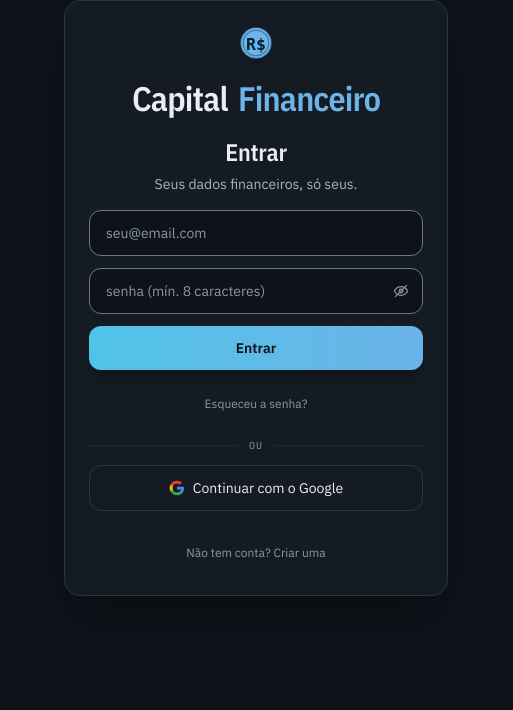
Test case: Auth — confirmação de e-mail no cadastro › e-mail que não sai não desfaz o cadastro nem impede a entrada
Click the button "Não tem conta? Criar uma": (256, 553) [89,531,423,575]
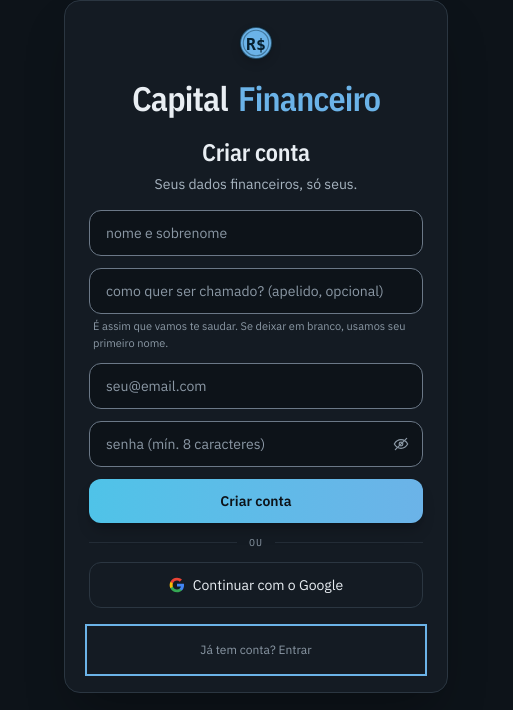
In the field named "Nome completo": (256, 233) [89,210,423,256], type "Ana Souza"
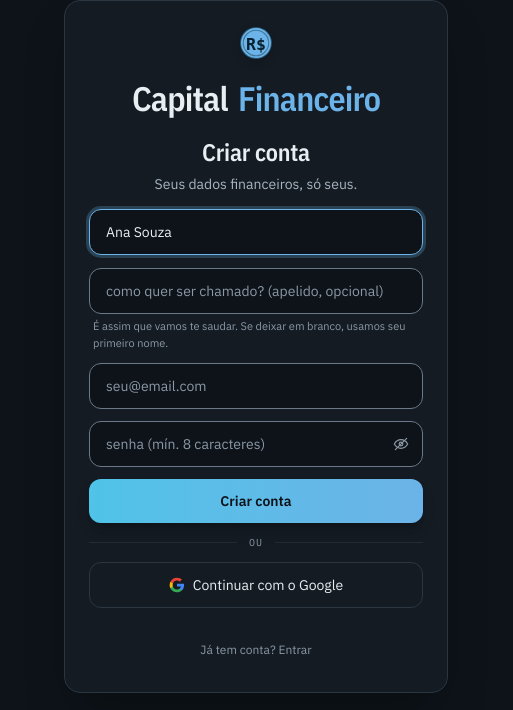
In the field named "E-mail": (256, 386) [89,363,423,409], type "ana@exemplo.com"
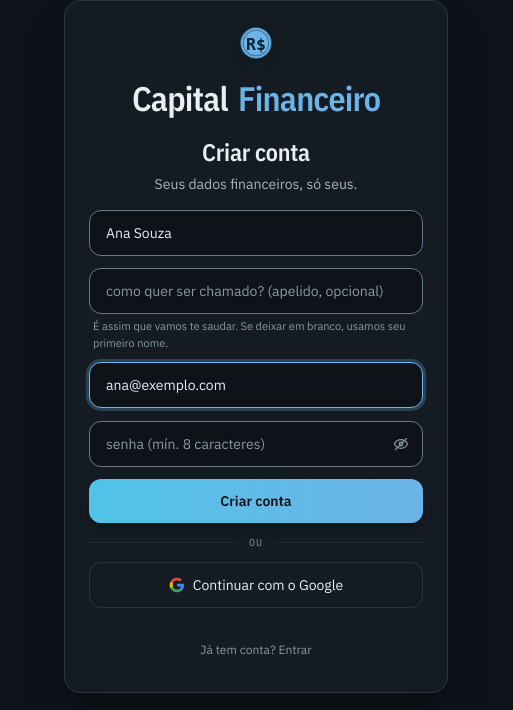
In the password field labelled "senha": (256, 444) [89,421,423,467], type "senha-bem-grande"
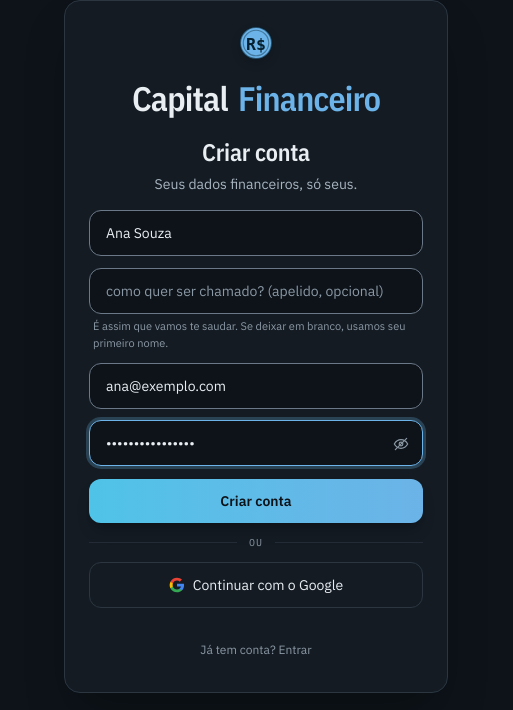
Click the button "Criar conta": (256, 501) [89,479,423,523]
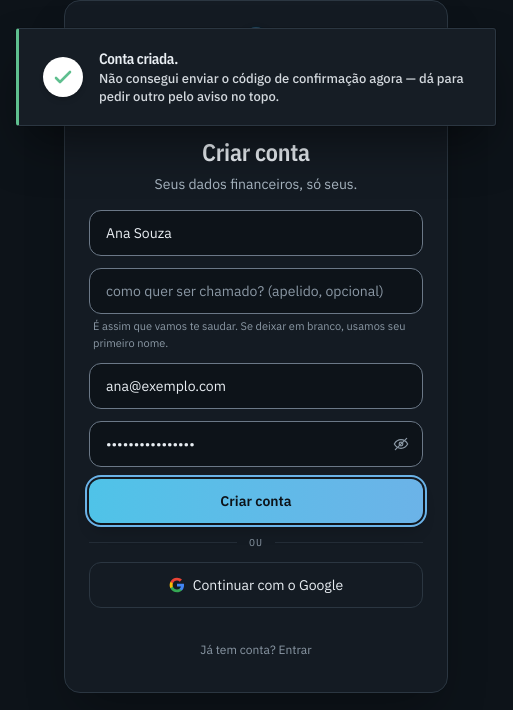
Expected: the text "Não consegui enviar o código" is shown, [99,70,464,104]
